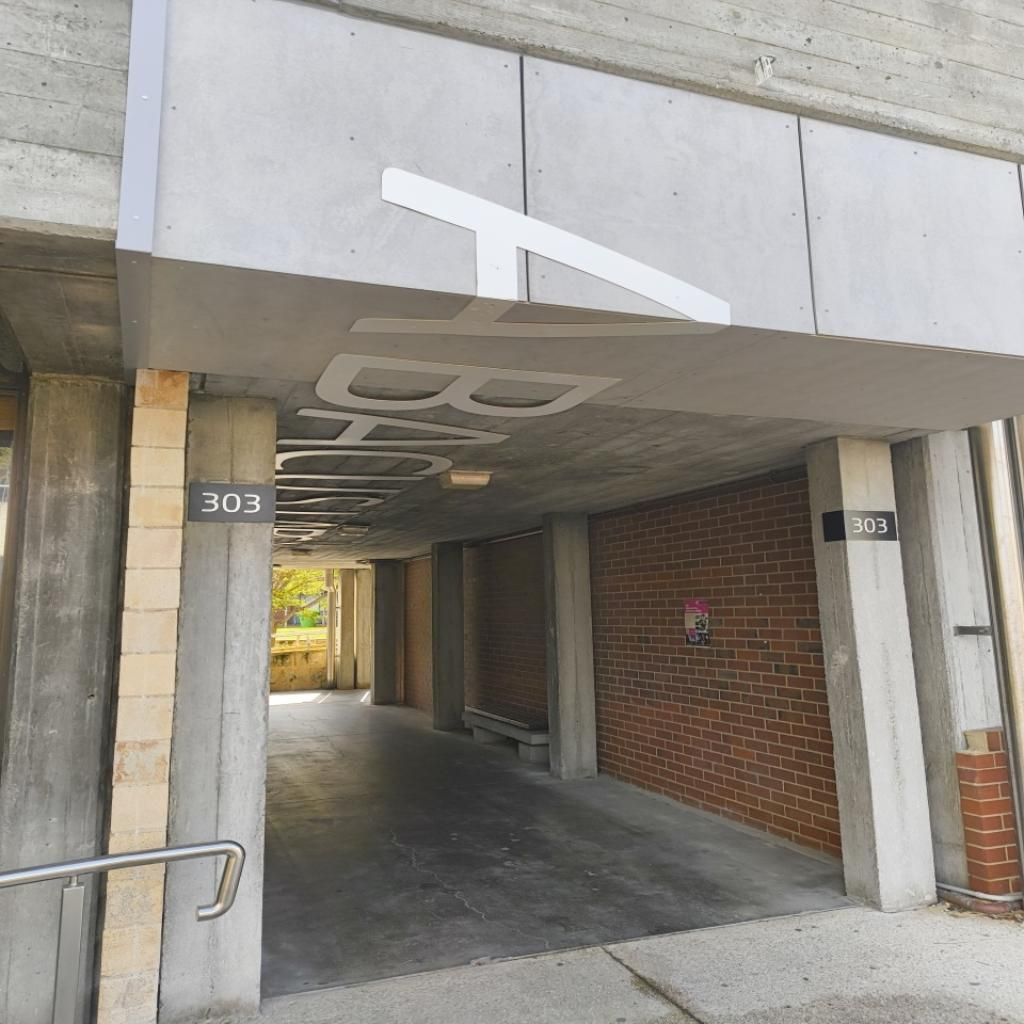BuildingCodes: (200, 488, 264, 516), (850, 515, 890, 535)
